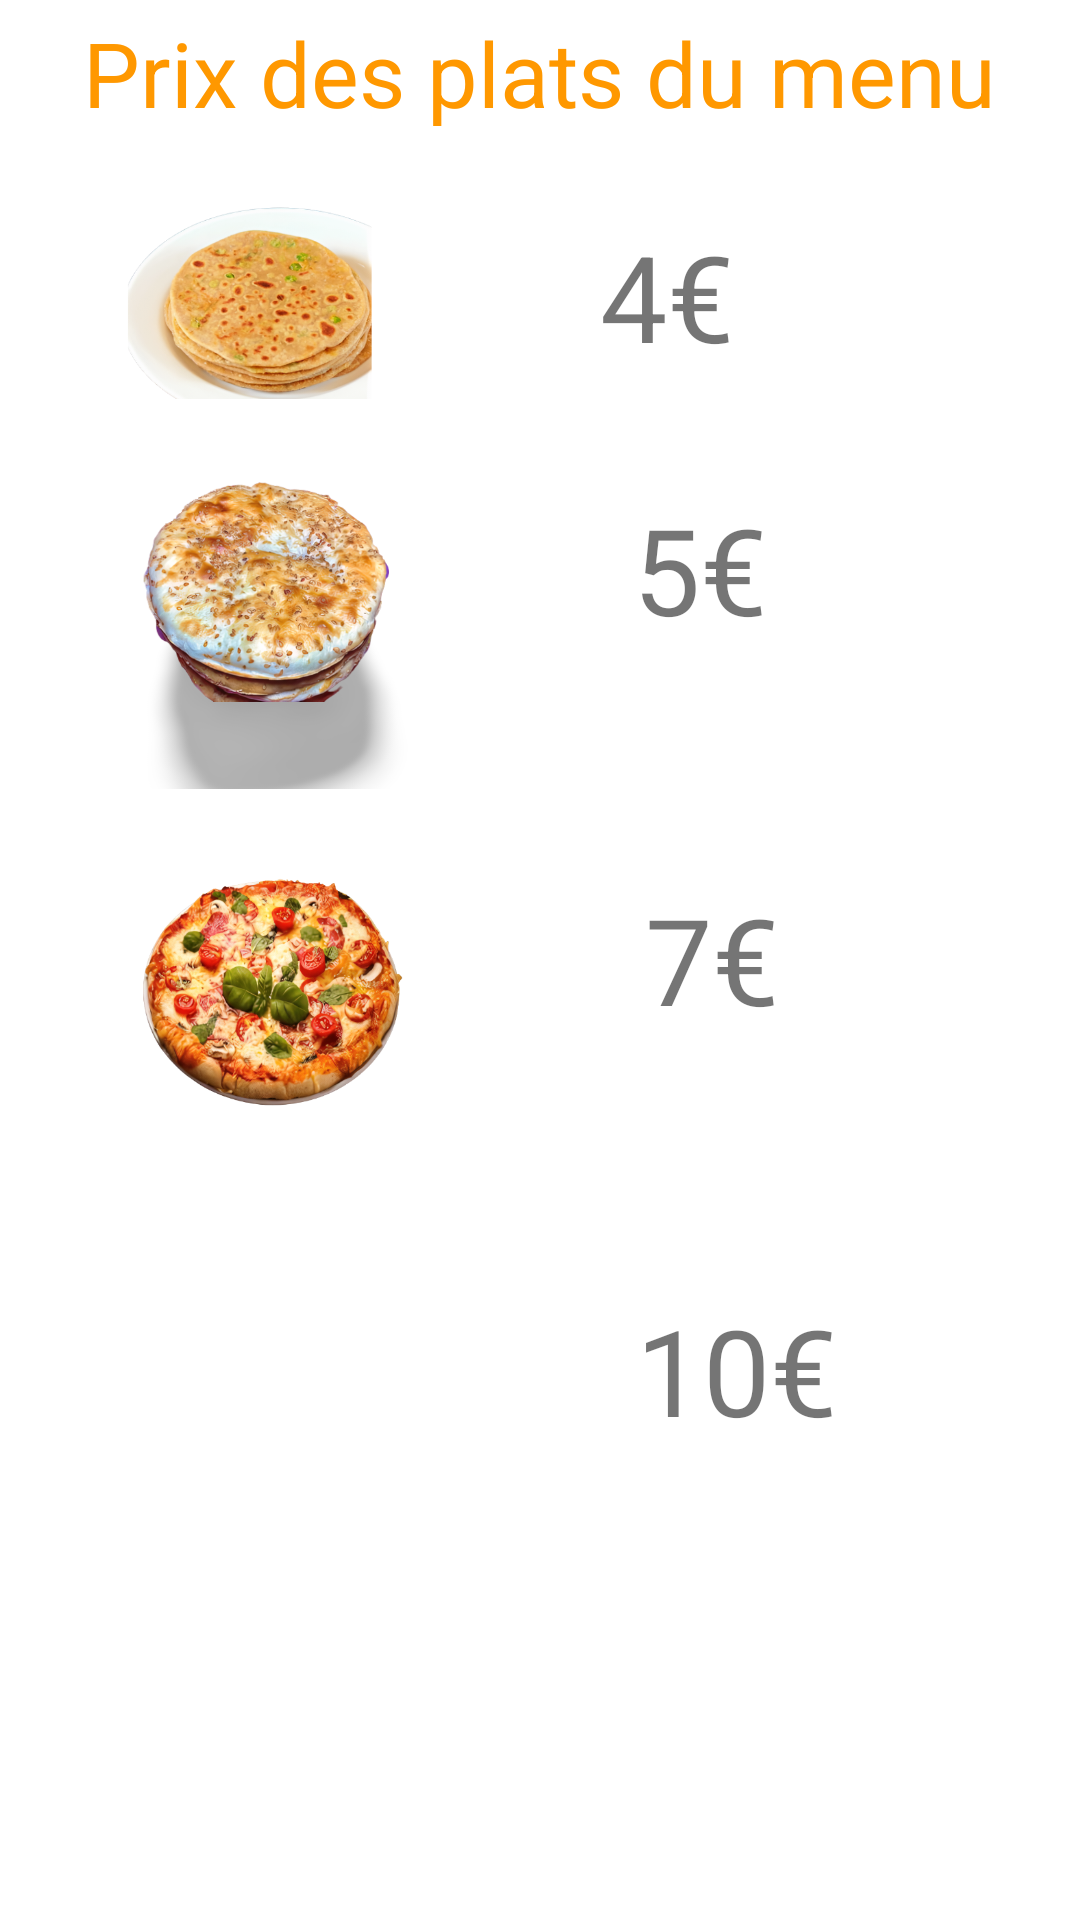

Icon bounding boxes for this 1080 × 1920 phone screenshot, format [left=x1, top=y1, right=x2, bottom=y2]:
pizza: [left=143, top=879, right=402, bottom=1106]
